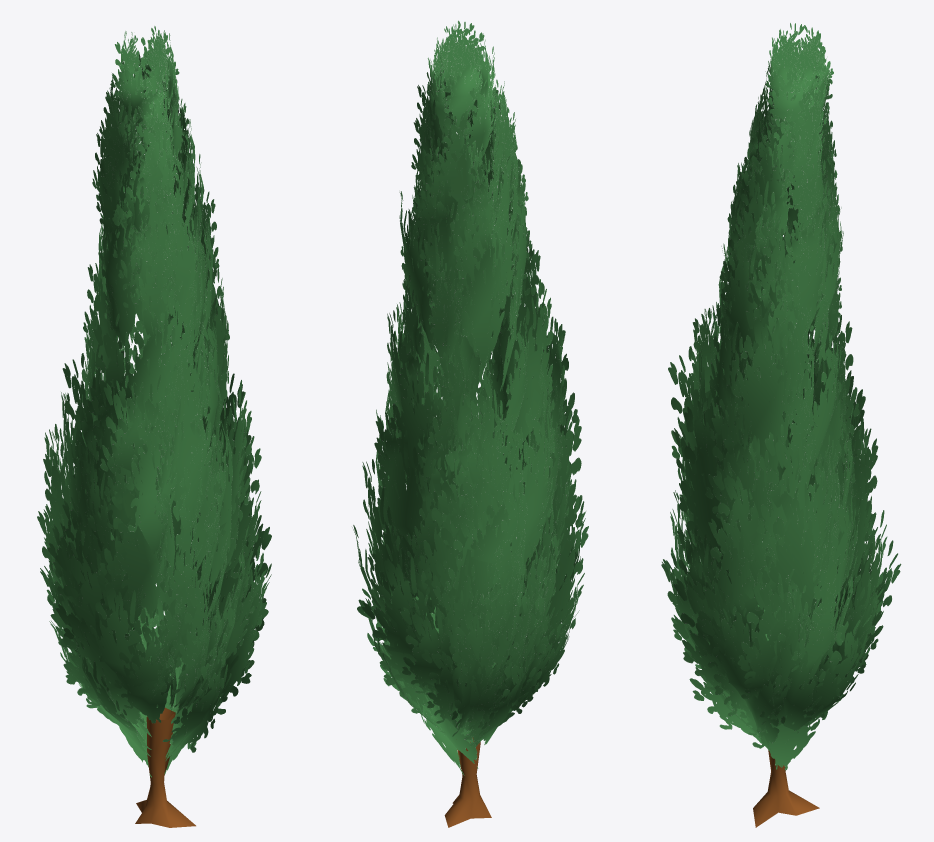
File: Tree_Test01.fbx
3 renders of one model, left to right at view 1: azimuth 30°, elevation 25°; view 2: azimuth 150°, elevation 25°; view 3: azimuth 270°, elevation 25°, orthographic.
Parts seen in each view (by area): view 1: Trunk.001; view 2: Trunk.001; view 3: Trunk.001.
Boxes of the visible parts, x1,y1,x2,y2 form: Trunk.001: (37, 26, 271, 827); Trunk.001: (352, 20, 588, 827); Trunk.001: (661, 23, 901, 827).
Size of the model in its own units: 368 by 1106 by 359.
Materials: 2 (1 with a texture image).
